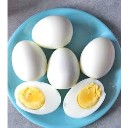begg: (15, 81, 63, 115), (66, 80, 105, 115), (32, 18, 74, 47)
